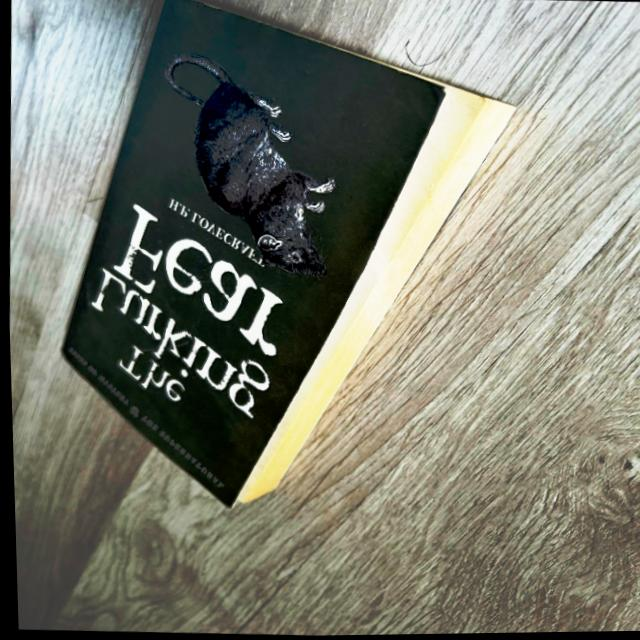Book: (61, 0, 511, 506)
